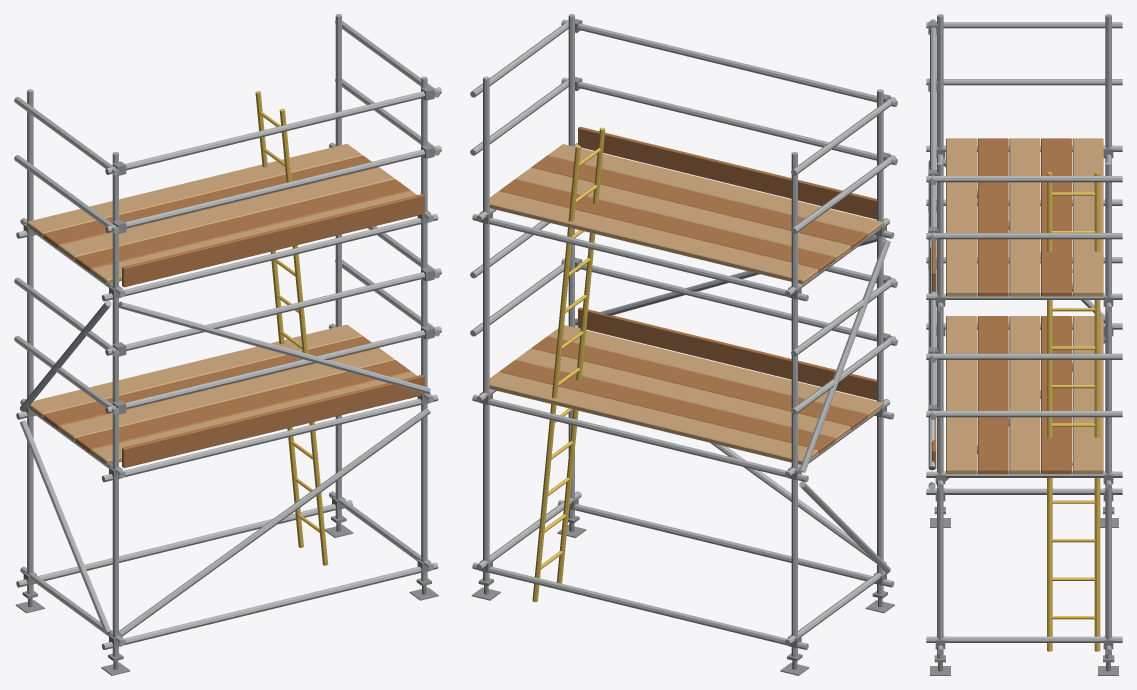
The model's file is Scaffolding.fbx.
3 views of the same model, side by side, from view 1: azimuth 30°, elevation 25°; view 2: azimuth 150°, elevation 25°; view 3: azimuth 270°, elevation 25° (orthographic).
Parts seen in each view (by area): view 1: Scaffolding_Mesh; view 2: Scaffolding_Mesh; view 3: Scaffolding_Mesh.
Boxes of the visible parts, x1,y1,x2,y2 form: Scaffolding_Mesh: (14, 14, 441, 675); Scaffolding_Mesh: (470, 14, 897, 675); Scaffolding_Mesh: (926, 14, 1122, 675).
Size of the model in its own units: 2.7 by 4 by 1.4.
